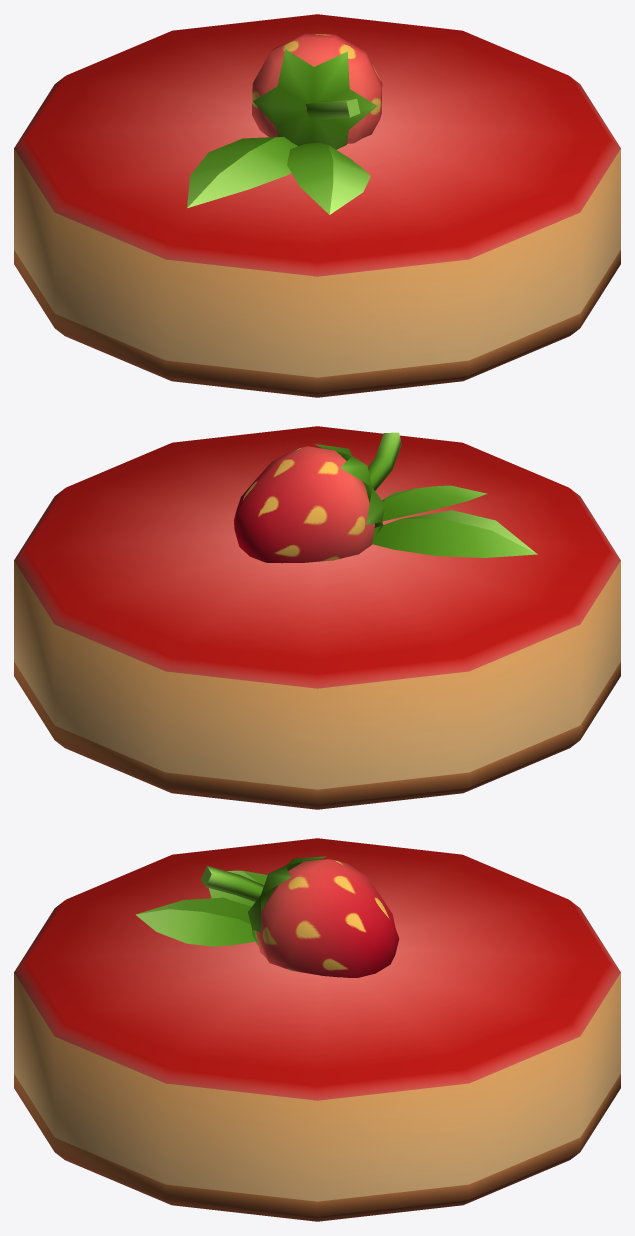
Rendered from m_CheeseCake06.fbx.
3 renders of one model, top to bottom at view 1: azimuth 30°, elevation 25°; view 2: azimuth 150°, elevation 25°; view 3: azimuth 270°, elevation 25°, orthographic.
Parts seen in each view (by area): view 1: m_CheeseCake06; view 2: m_CheeseCake06; view 3: m_CheeseCake06.
Boxes of the visible parts, x1,y1,x2,y2 form: m_CheeseCake06: [14, 14, 620, 397]; m_CheeseCake06: [14, 426, 620, 809]; m_CheeseCake06: [14, 838, 620, 1221].
Size of the model in its own units: 28 by 11.94 by 28.
